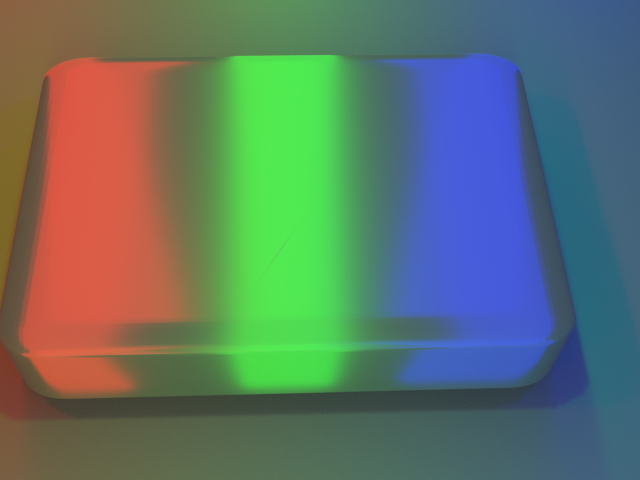scratch: (43, 130, 499, 358)
